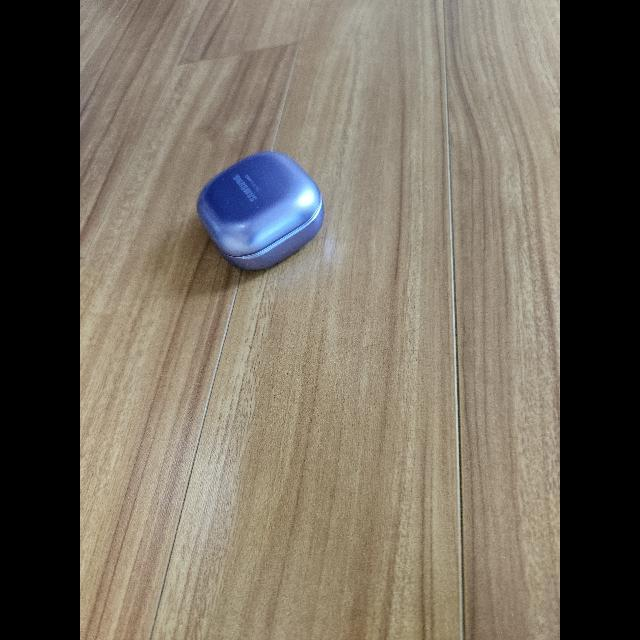buds-pro: (196, 147, 330, 275)
